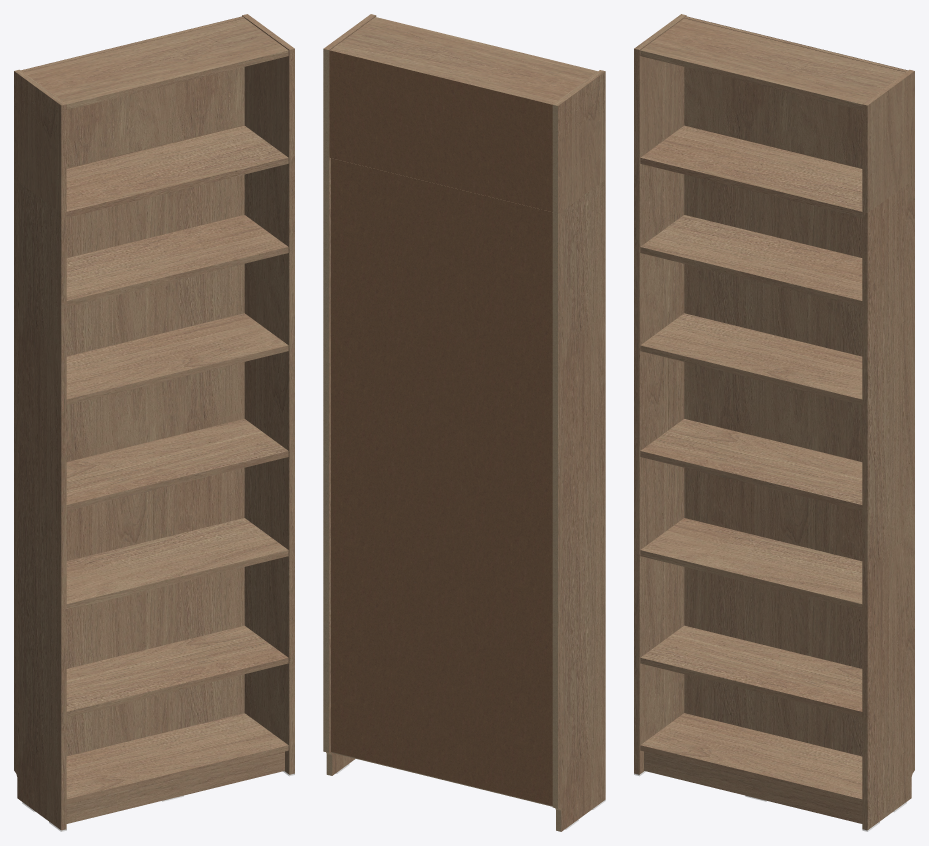
File: 15 - BILLY Bookcase with height extension unit - oak effect 80x28x237 cm.glb
3 views of the same model, side by side, from view 1: azimuth 30°, elevation 25°; view 2: azimuth 150°, elevation 25°; view 3: azimuth 330°, elevation 25° (orthographic).
Visible parts, largest first — view 1: Mesh_0; view 2: Mesh_0; view 3: Mesh_0.
Part boxes in pixels (left/top/right/bottom): Mesh_0: left=14, top=14, right=294, bottom=830; Mesh_0: left=323, top=14, right=605, bottom=831; Mesh_0: left=634, top=14, right=914, bottom=830.
Size of the model in its own units: 0.8 by 2.38 by 0.2804.
4 materials, 3 textured.
